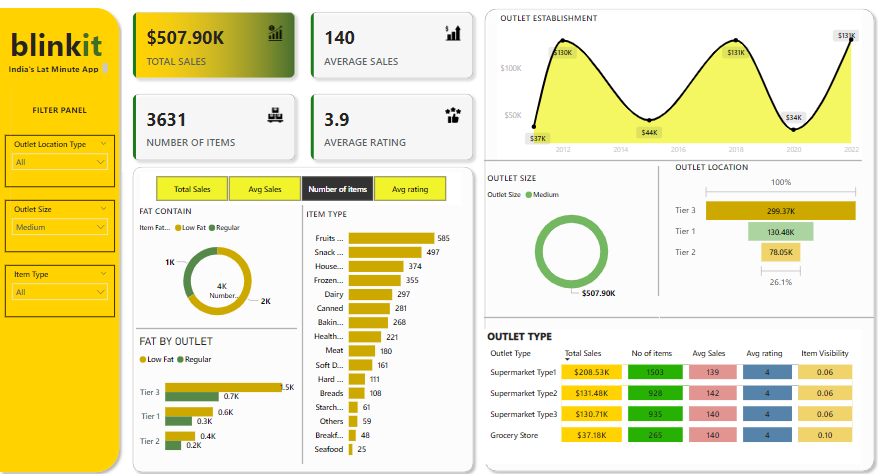

The dashboard page shown, as its layout file describes it:
{"tool":"powerbi","page":{"name":"Page 1","canvas":[1400,800],"ordinal":0},"visuals":[{"type":"shape","box":[4.7,26.8,206.3,749.6],"z":0},{"type":"textbox","box":[420.5,102.4,204.7,80.3],"z":1000},{"type":"textbox","box":[253.5,645.7,204.7,130.7],"z":2000},{"type":"textbox","box":[420.5,489.8,204.7,155.9],"z":3000},{"type":"textbox","box":[15.7,55.1,173.2,75.6],"z":4000},{"type":"textbox","box":[15.7,118.1,173.2,25.2],"z":5000},{"type":"cardVisual","fields":{"Data":["BlinkIT Grocery Data.Total Sales","BlinkIT Grocery Data.Avg Sales","BlinkIT Grocery Data.Number of items","BlinkIT Grocery Data.Avg rating"]},"box":[206.3,25.2,570.1,269.3],"z":6000},{"type":"shape","box":[214.2,277.2,554.3,499.2],"z":7000},{"type":"donutChart","title":"FAT CONTAIN","fields":{"Y":["BlinkIT Grocery Data.Number of items"],"Category":["BlinkIT Grocery Data.Item Fat Content"]},"box":[228.3,346.5,256.7,195.3],"z":8000},{"type":"slicer","fields":{"Values":["Metrix.Metrix"]},"box":[234.6,294.5,505.5,52],"z":9000},{"type":"cardVisual","fields":{"Data":["BlinkIT Grocery Data.Number of items"]},"box":[321.3,447.2,85,53.5],"z":10000},{"type":"clusteredBarChart","title":"FAT BY OUTLET","fields":{"Y":["BlinkIT Grocery Data.Number of items"],"Category":["BlinkIT Grocery Data.Outlet Location Type"],"Series":["BlinkIT Grocery Data.Item Fat Content"]},"box":[228.3,551.2,253.5,203.1],"z":11000},{"type":"shape","box":[228.3,518.1,253.5,45.7],"z":12000},{"type":"shape","box":[363.8,346.5,253.5,407.9],"z":13000},{"type":"barChart","title":"ITEM TYPE","fields":{"Y":["BlinkIT Grocery Data.Number of items"],"Category":["BlinkIT Grocery Data.Item Type"]},"box":[491.3,351.2,236.2,403.1],"z":14000},{"type":"shape","box":[768.5,28.3,631.5,746.5],"z":15000},{"type":"lineChart","title":"OUTLET ESTABLISHMENT","fields":{"Y":["BlinkIT Grocery Data.Total Sales"],"Category":["BlinkIT Grocery Data.Outlet Establishment Year"]},"box":[796.9,42.5,574.8,234.6],"z":16000},{"type":"shape","box":[776.4,253.5,595.3,45.7],"z":17000},{"type":"donutChart","title":"OUTLET SIZE","fields":{"Y":["BlinkIT Grocery Data.Total Sales"],"Category":["BlinkIT Grocery Data.Outlet Size"]},"box":[776.4,294.5,275.6,206.3],"z":18000},{"type":"shape","box":[924.4,285,253.5,204.7],"z":19000},{"type":"funnel","title":"OUTLET LOCATION","fields":{"Category":["BlinkIT Grocery Data.Outlet Location Type"],"Y":["Sum(BlinkIT Grocery Data.Sales)"]},"box":[1072.4,277.2,299.2,204.7],"z":20000},{"type":"shape","box":[776.4,500.8,275.6,45.7],"z":21000},{"type":"shape","box":[1053.5,503.9,337,45.7],"z":22000},{"type":"pivotTable","title":"OUTLET TYPE","fields":{"Rows":["BlinkIT Grocery Data.Outlet Type"],"Values":["BlinkIT Grocery Data.Total Sales","BlinkIT Grocery Data.Number of items","BlinkIT Grocery Data.Avg Sales","BlinkIT Grocery Data.Avg rating","Avg(BlinkIT Grocery Data.Item Visibility)"]},"box":[776.4,541.7,595.3,212.6],"z":23000},{"type":"slicer","fields":{"Values":["BlinkIT Grocery Data.Outlet Location Type"]},"box":[22,236.2,173.2,81.9],"z":24000},{"type":"slicer","fields":{"Values":["BlinkIT Grocery Data.Item Type"]},"box":[22,440.9,173.2,81.9],"z":25000},{"type":"slicer","fields":{"Values":["BlinkIT Grocery Data.Outlet Size"]},"box":[22,338.6,173.2,81.9],"z":26000},{"type":"textbox","box":[15.7,182.7,184.3,48.8],"z":26001}]}

Visuals, with their boxes on the page's 1400x800 design canvas (x1, y1, x2, y2). These are canvas units, not pixel positions in the 878x474 screenshot, which may show the page scaled, cropped or inside an application window:
shape: [left=5, top=27, right=211, bottom=776]
textbox: [left=420, top=102, right=625, bottom=183]
textbox: [left=254, top=646, right=458, bottom=776]
textbox: [left=420, top=490, right=625, bottom=646]
textbox: [left=16, top=55, right=189, bottom=131]
textbox: [left=16, top=118, right=189, bottom=143]
cardVisual - BlinkIT Grocery Data.Total Sales x BlinkIT Grocery Data.Avg Sales: [left=206, top=25, right=776, bottom=294]
shape: [left=214, top=277, right=768, bottom=776]
"FAT CONTAIN" donutChart: [left=228, top=346, right=485, bottom=542]
slicer - Metrix.Metrix: [left=235, top=294, right=740, bottom=346]
cardVisual - BlinkIT Grocery Data.Number of items: [left=321, top=447, right=406, bottom=501]
"FAT BY OUTLET" clusteredBarChart: [left=228, top=551, right=482, bottom=754]
shape: [left=228, top=518, right=482, bottom=564]
shape: [left=364, top=346, right=617, bottom=754]
"ITEM TYPE" barChart: [left=491, top=351, right=728, bottom=754]
shape: [left=768, top=28, right=1400, bottom=775]
"OUTLET ESTABLISHMENT" lineChart: [left=797, top=42, right=1372, bottom=277]
shape: [left=776, top=254, right=1372, bottom=299]
"OUTLET SIZE" donutChart: [left=776, top=294, right=1052, bottom=501]
shape: [left=924, top=285, right=1178, bottom=490]
"OUTLET LOCATION" funnel: [left=1072, top=277, right=1372, bottom=482]
shape: [left=776, top=501, right=1052, bottom=546]
shape: [left=1054, top=504, right=1390, bottom=550]
"OUTLET TYPE" pivotTable: [left=776, top=542, right=1372, bottom=754]
slicer - BlinkIT Grocery Data.Outlet Location Type: [left=22, top=236, right=195, bottom=318]
slicer - BlinkIT Grocery Data.Item Type: [left=22, top=441, right=195, bottom=523]
slicer - BlinkIT Grocery Data.Outlet Size: [left=22, top=339, right=195, bottom=420]
textbox: [left=16, top=183, right=200, bottom=232]
